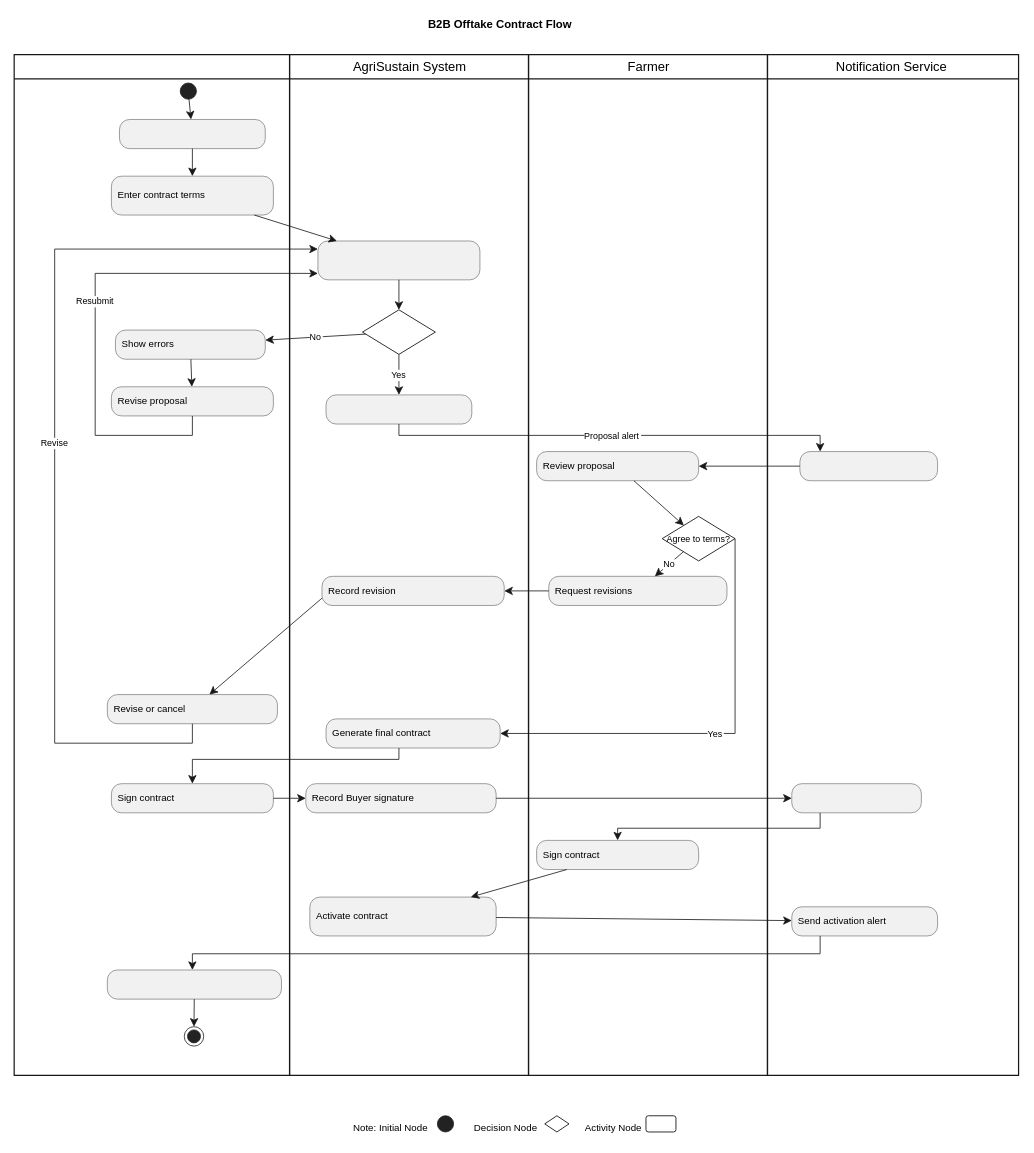
The diagram is 1034 pixels wide and 1153 high, and some of its shapes have lost their labels. The box of each missing label's shape, as (x1, y1, x2, y2) in pixels:
Buyer B2B: (13, 54, 290, 1076)
Create proposal: (119, 119, 265, 148)
Receive activation: (107, 969, 281, 999)
Send proposal alert: (799, 451, 937, 481)
Send signing alert: (791, 783, 921, 813)
Set PendingSign: (325, 394, 472, 424)
Valid proposal?: (362, 309, 435, 354)
Validate proposal: (317, 240, 480, 280)
